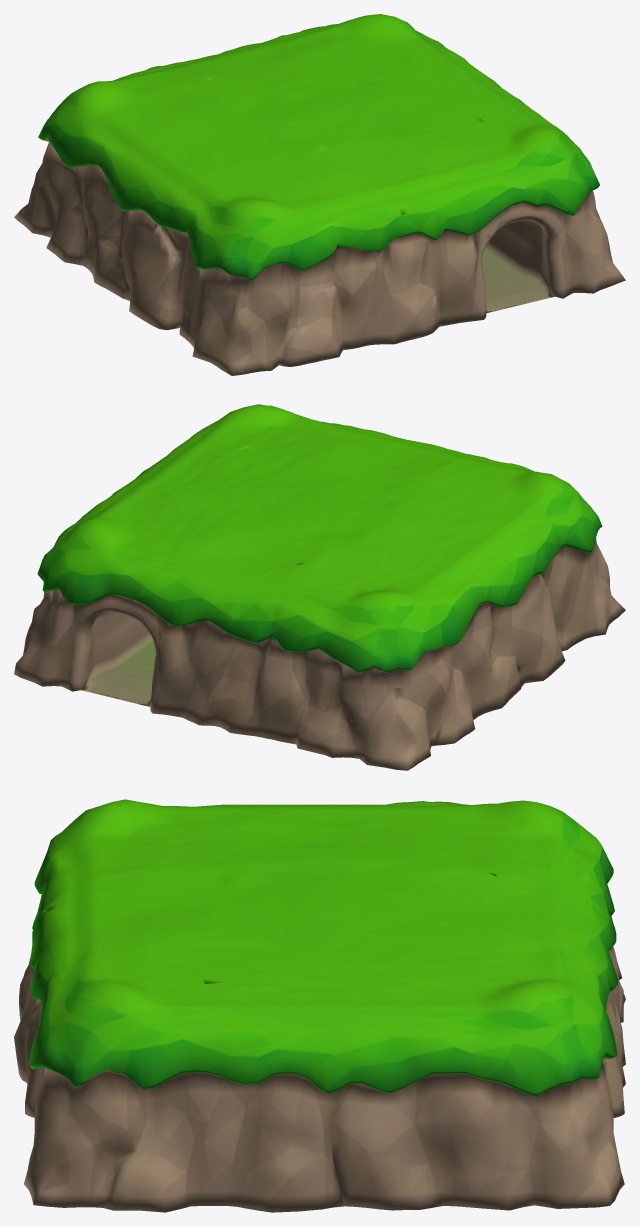
The model's file is gake0.glb.
3 views of the same model, one above another, from view 1: azimuth 30°, elevation 25°; view 2: azimuth 150°, elevation 25°; view 3: azimuth 270°, elevation 25° (orthographic). The views are drawn at different scales.
Visible parts, largest first — view 1: tripo_node_15c7c7c6-22d2-41de-85ba-def7d41e6179; view 2: tripo_node_15c7c7c6-22d2-41de-85ba-def7d41e6179; view 3: tripo_node_15c7c7c6-22d2-41de-85ba-def7d41e6179.
Boxes of the visible parts, x1,y1,x2,y2 form: tripo_node_15c7c7c6-22d2-41de-85ba-def7d41e6179: [14, 14, 625, 375]; tripo_node_15c7c7c6-22d2-41de-85ba-def7d41e6179: [14, 404, 625, 770]; tripo_node_15c7c7c6-22d2-41de-85ba-def7d41e6179: [14, 799, 625, 1212].
Bounding box in the file's own units: 0.9984 × 0.3263 × 0.9788.
1 material, 1 textured.
